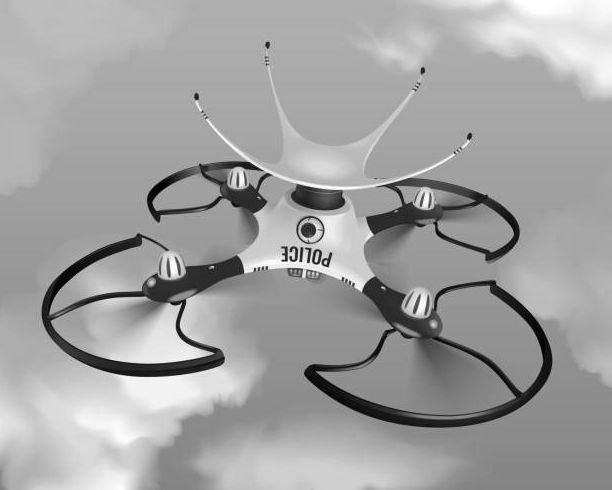Drone: (42, 147, 553, 428)
